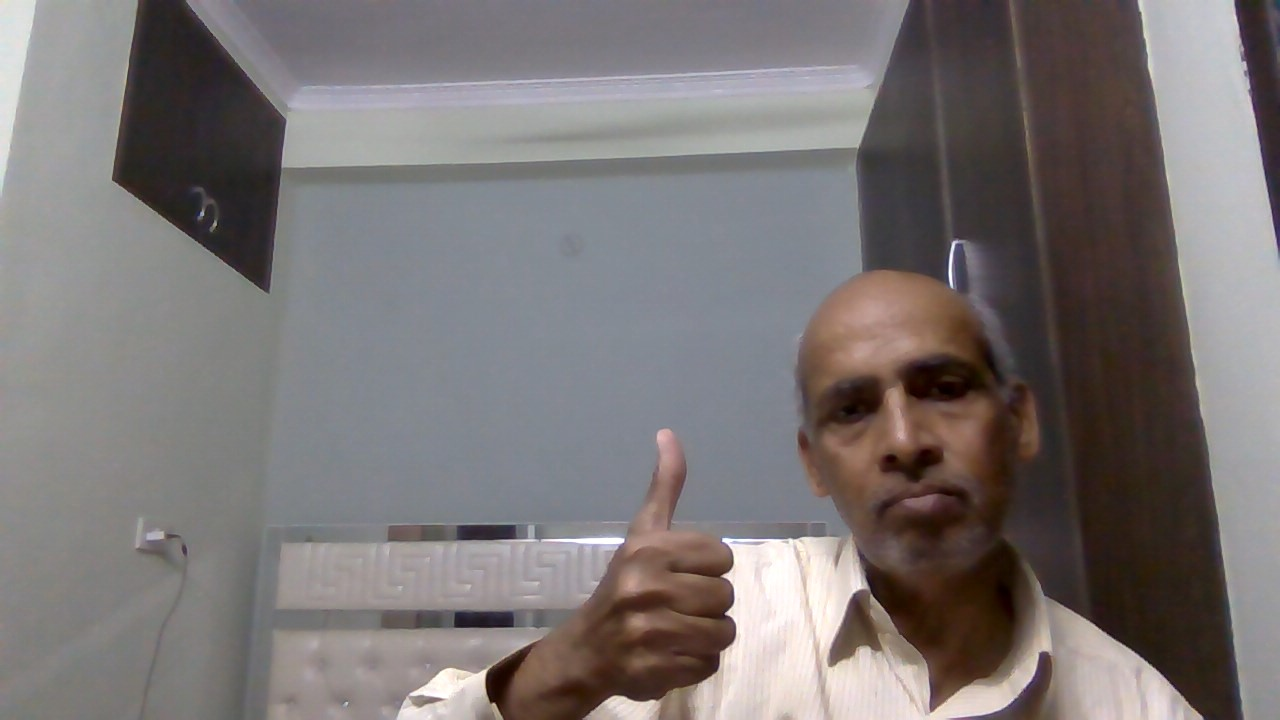Save: (570, 423, 752, 707)
